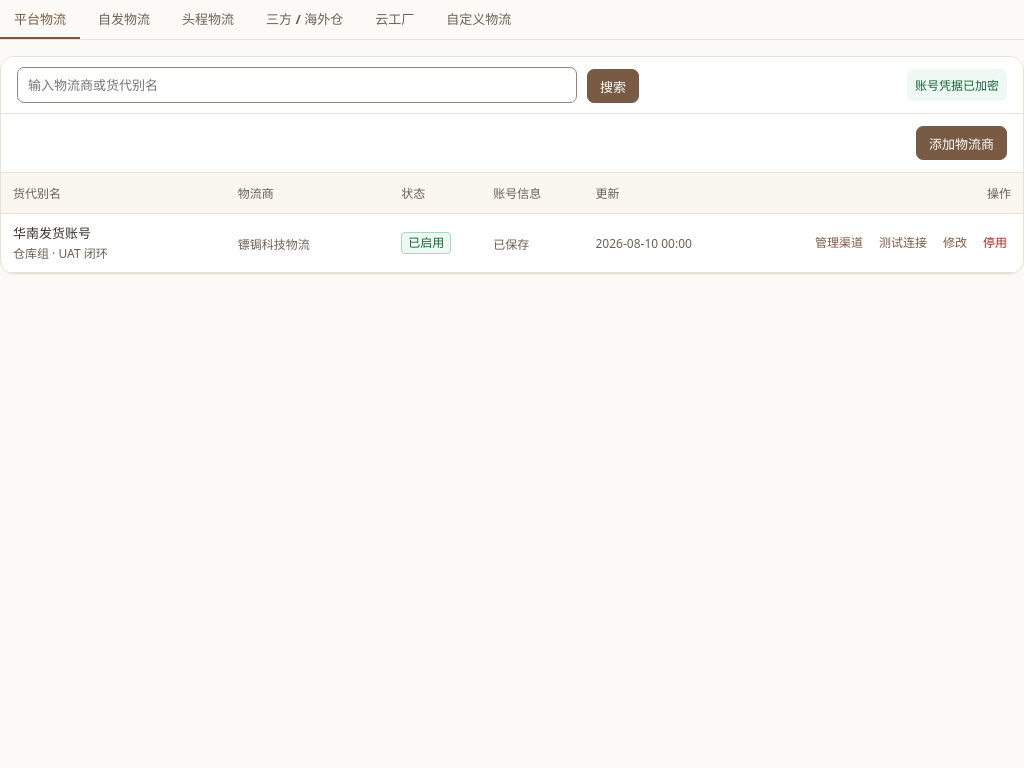
Test case: logistics authorization › renames a freight account without requiring credentials or reconnecting it
This screenshot has width=1024, height=768.
Expected: the text "华南发货账号" is shown, [13,224,91,242]
Click the button "修改" at (955,243), box [939,230,971,256]
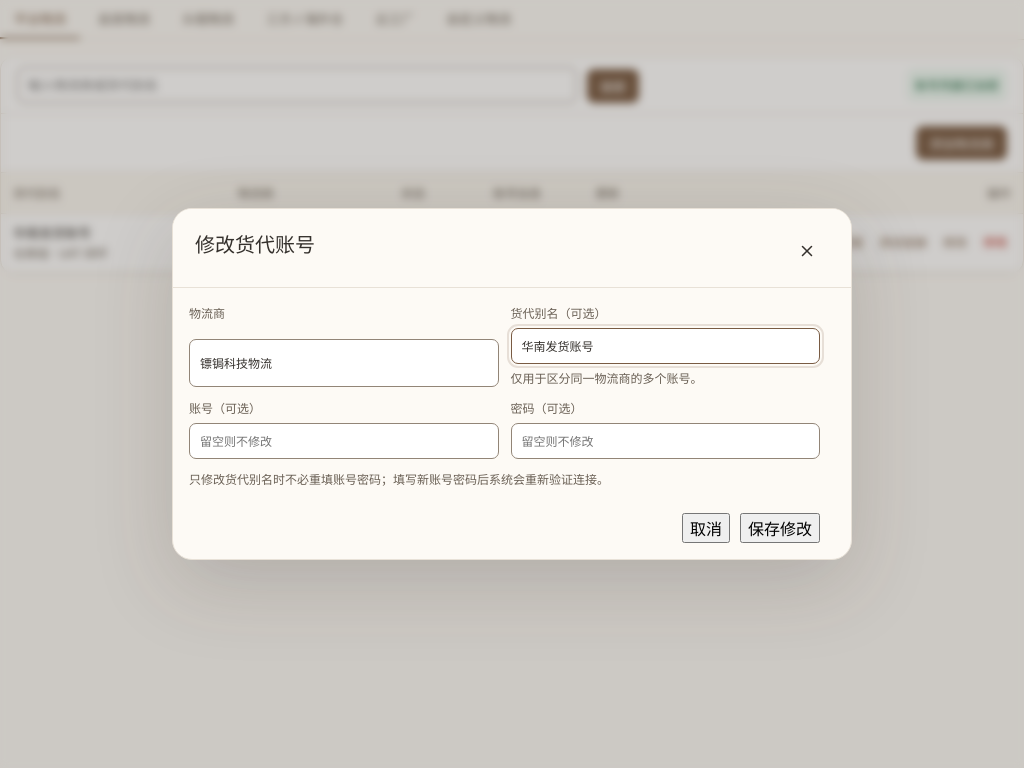
Replace the text in the field labelled "货代别名" with " 美西仓账号 " at (665,346), box [510,328,820,364]
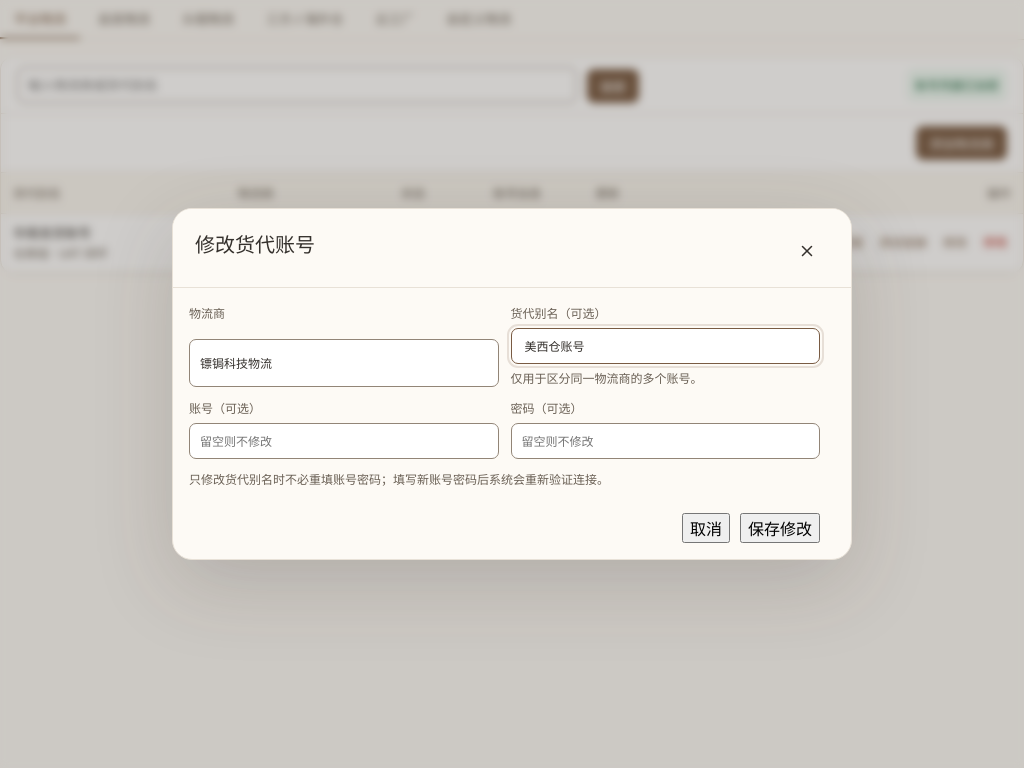
Click the button "保存修改" at (780,528), box [740,513,820,543]
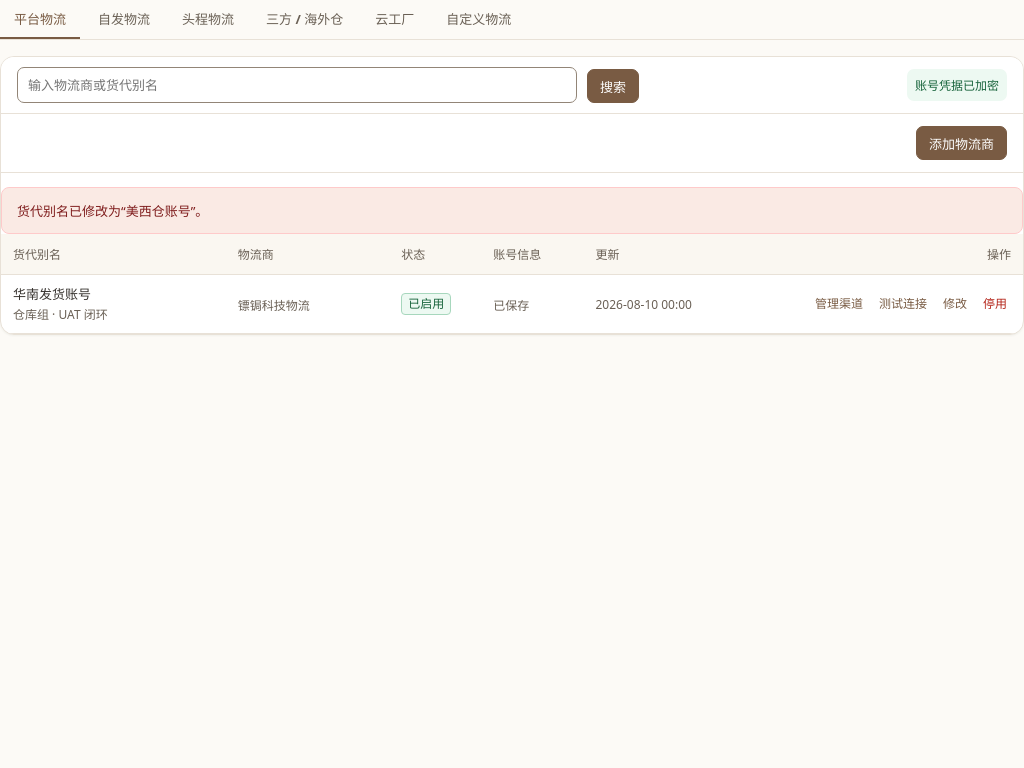
Now the text "货代别名已修改为“美西仓账号”。" is shown, box [1,187,1023,234]
